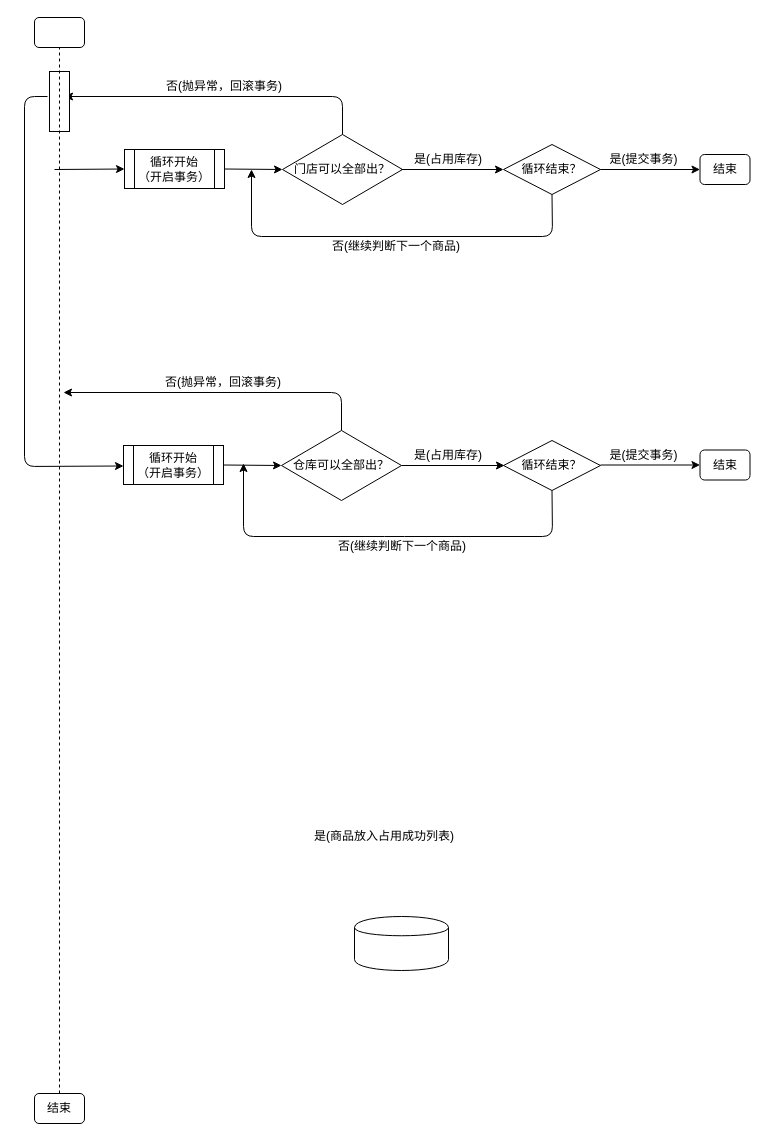
This 768x1141 diagram has some shape labels left out. Each missing label, with the centre of its shape:
"占用成功列表" goes at point (401, 943).
"开始" goes at point (59, 32).
